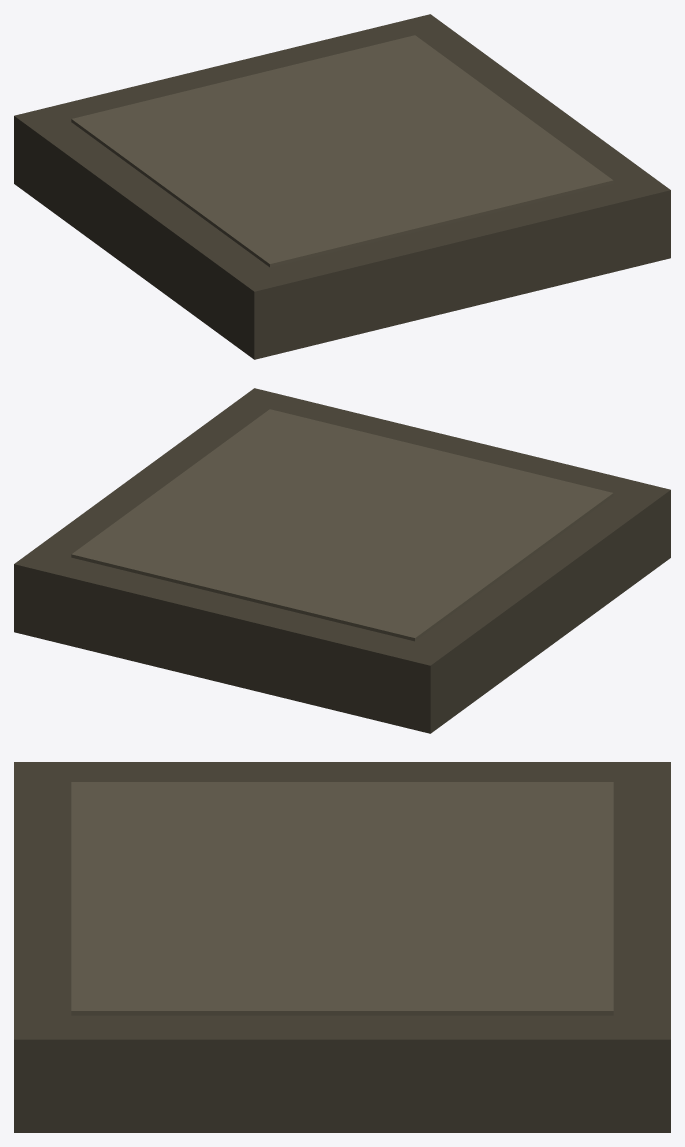
File: SM_BenchSlot.glb
3 renders of one model, top to bottom at view 1: azimuth 30°, elevation 25°; view 2: azimuth 150°, elevation 25°; view 3: azimuth 270°, elevation 25°, orthographic. The views are drawn at different scales.
Parts seen in each view (by area): view 1: SM_BenchSlot; view 2: SM_BenchSlot; view 3: SM_BenchSlot.
Boxes of the visible parts, left/top/right/bottom form: SM_BenchSlot: left=14, top=14, right=670, bottom=359; SM_BenchSlot: left=14, top=388, right=670, bottom=733; SM_BenchSlot: left=14, top=762, right=670, bottom=1132.
Size of the model in its own units: 0.8 by 0.131 by 0.8.
